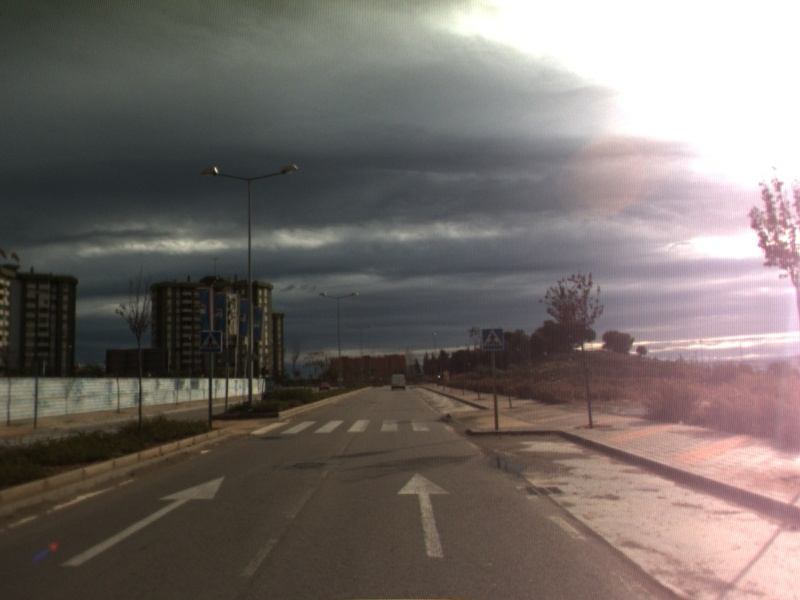STRAIGHT: (58, 474, 227, 569), (395, 470, 453, 560)
